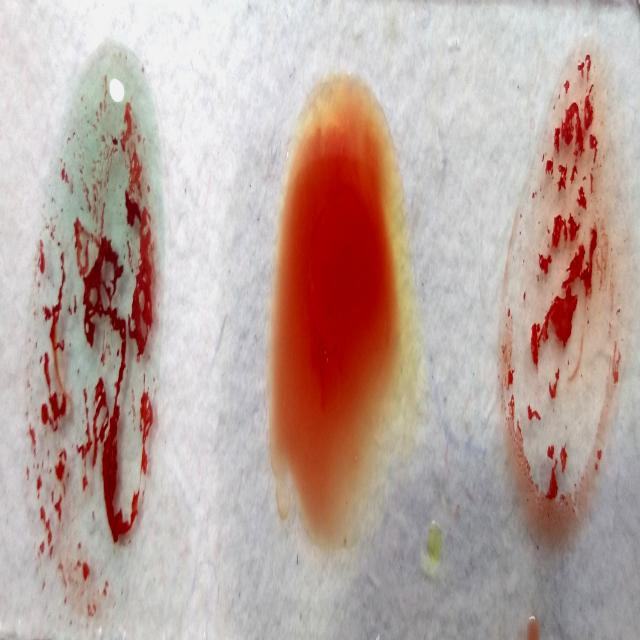A: (26, 46, 168, 614)
D: (498, 59, 628, 544)
